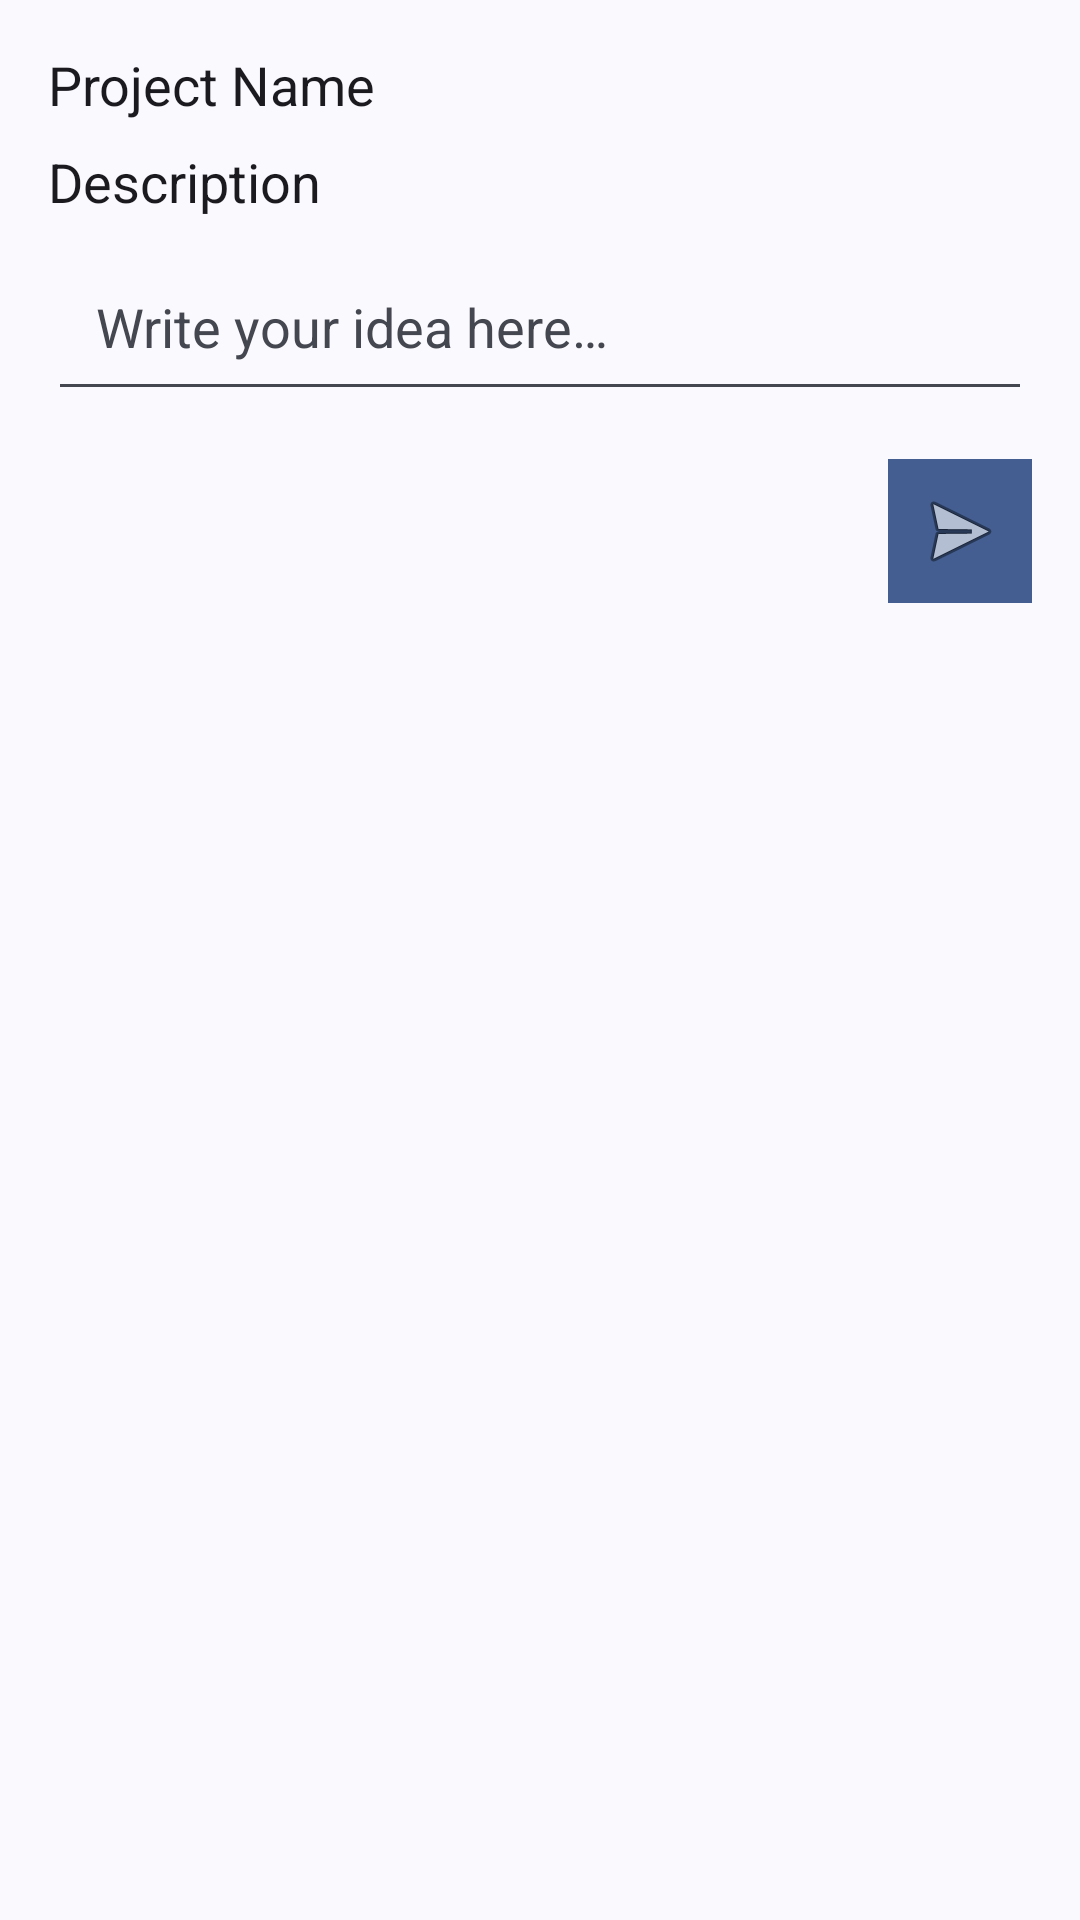

Locate icon controls on the screen. Image size 1080*1920, boxes as (x1, y1, x2, y2).
Submit: (888, 459, 1032, 603)
